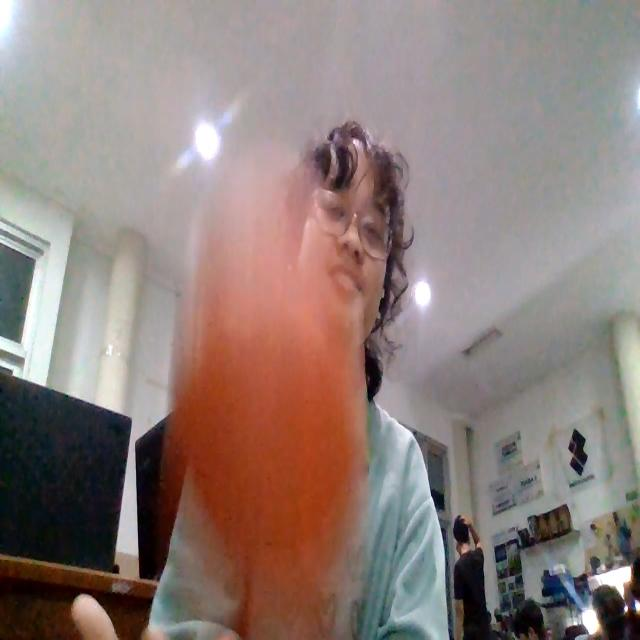ball: (191, 277, 365, 578)
